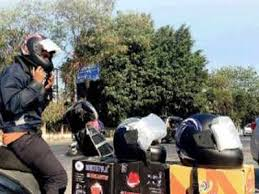helmet: (19, 33, 59, 72)
